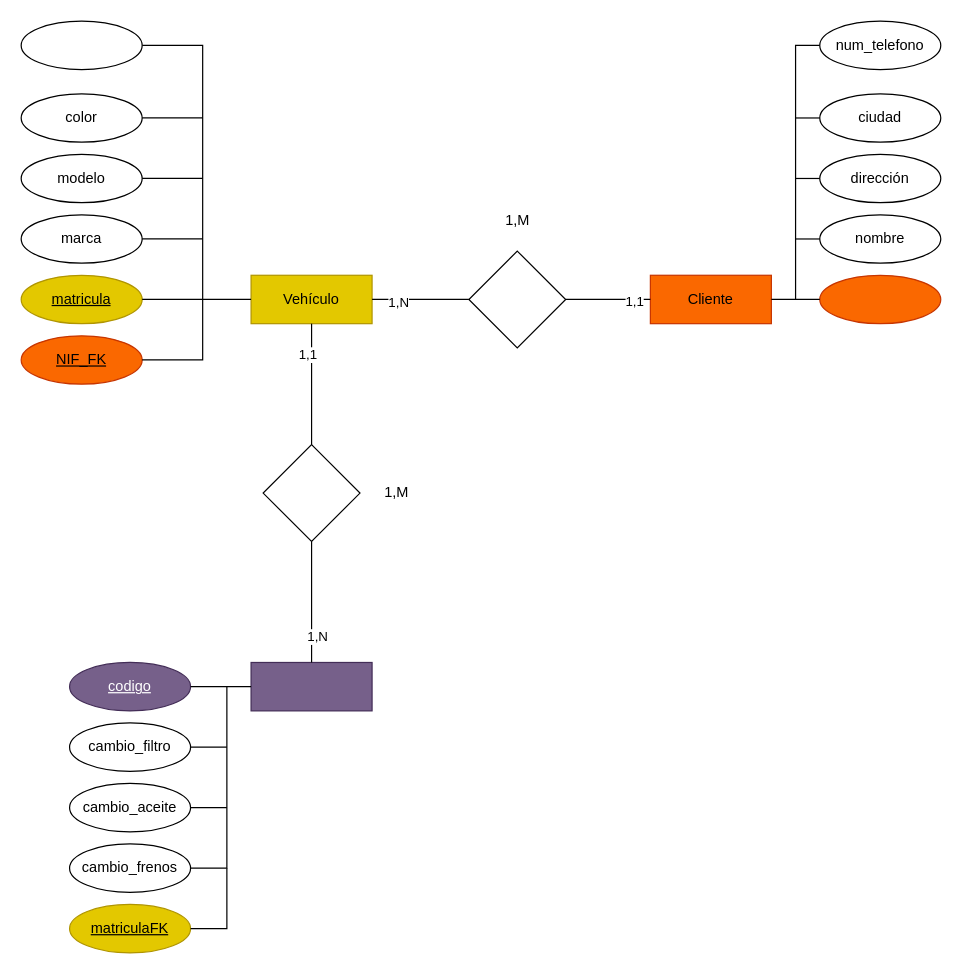
The diagram is 962 pixels wide and 974 high, and some of its shapes have lost their labels. The shapes that lost their labels are listed below. From the top down, each one's centre as x and y in pixels, then its label:
At (81,45): "precio".
At (517,299): "venta".
At (880,299): "NIF".
At (311,492): "se encarga".
At (311,686): "Revisión".
